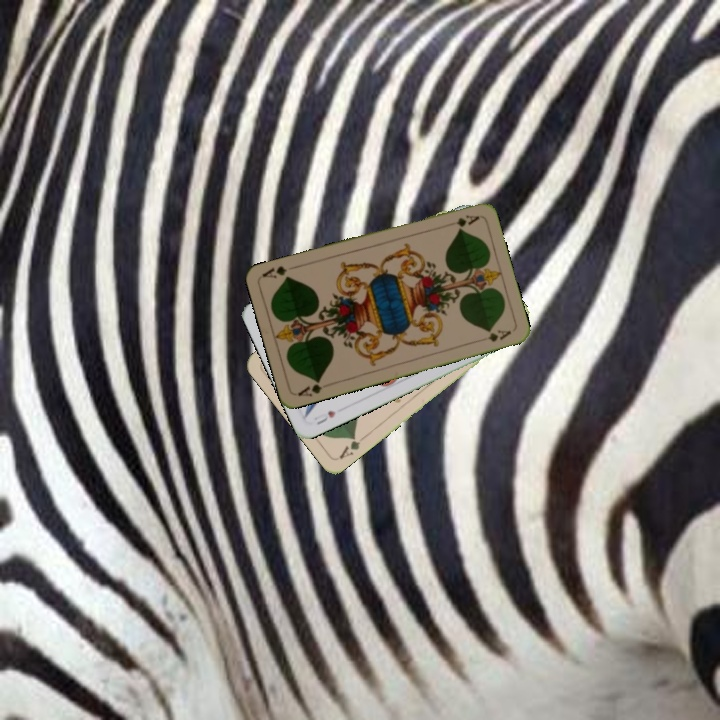GA: (335, 431, 369, 462), (293, 375, 325, 399), (452, 211, 482, 230)
HU: (310, 406, 339, 427)
